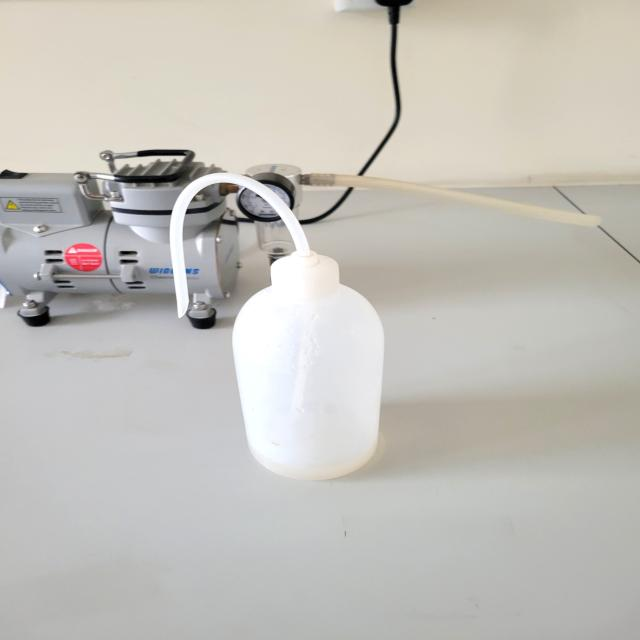Wash_Bottle: (156, 167, 414, 487)
